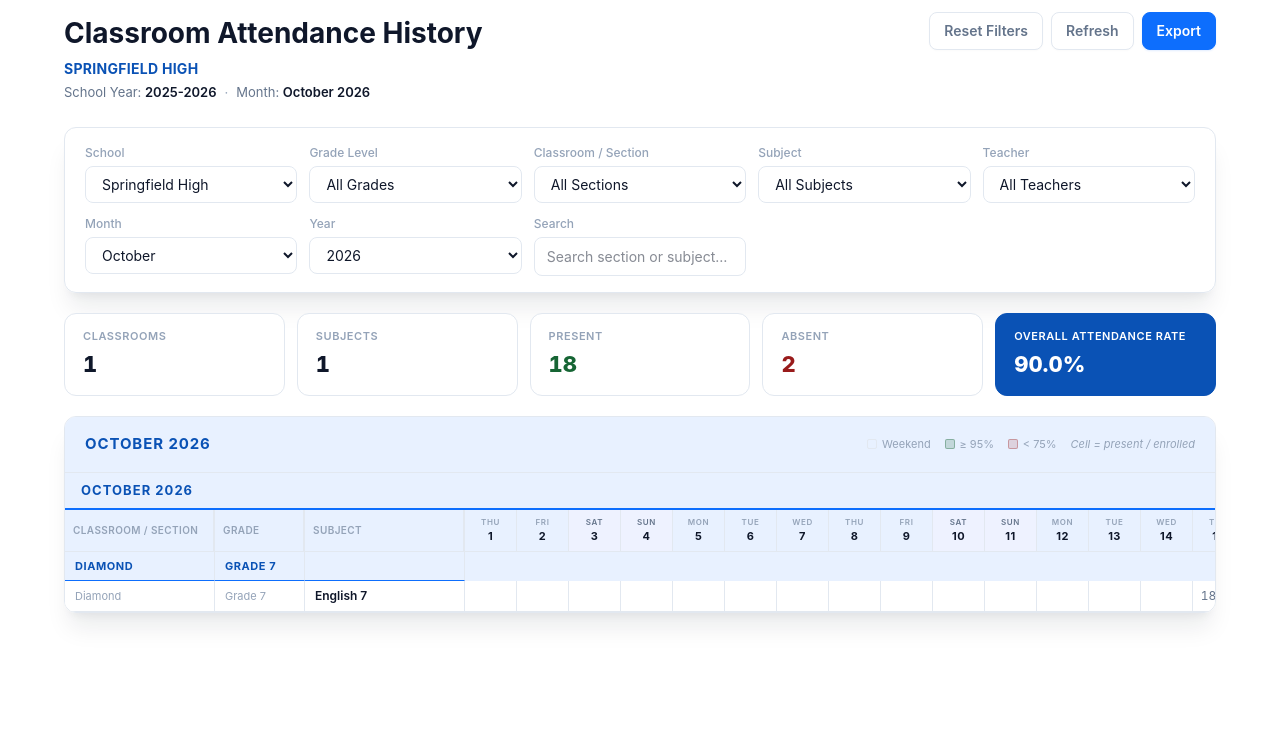
Scenario: AttendanceReport › applies grade, month and search filters
This screenshot has width=1280, height=732.
Select "Grade 7" in the dropdown below "Grade Level" at (416, 184), box [309,166,522,202]
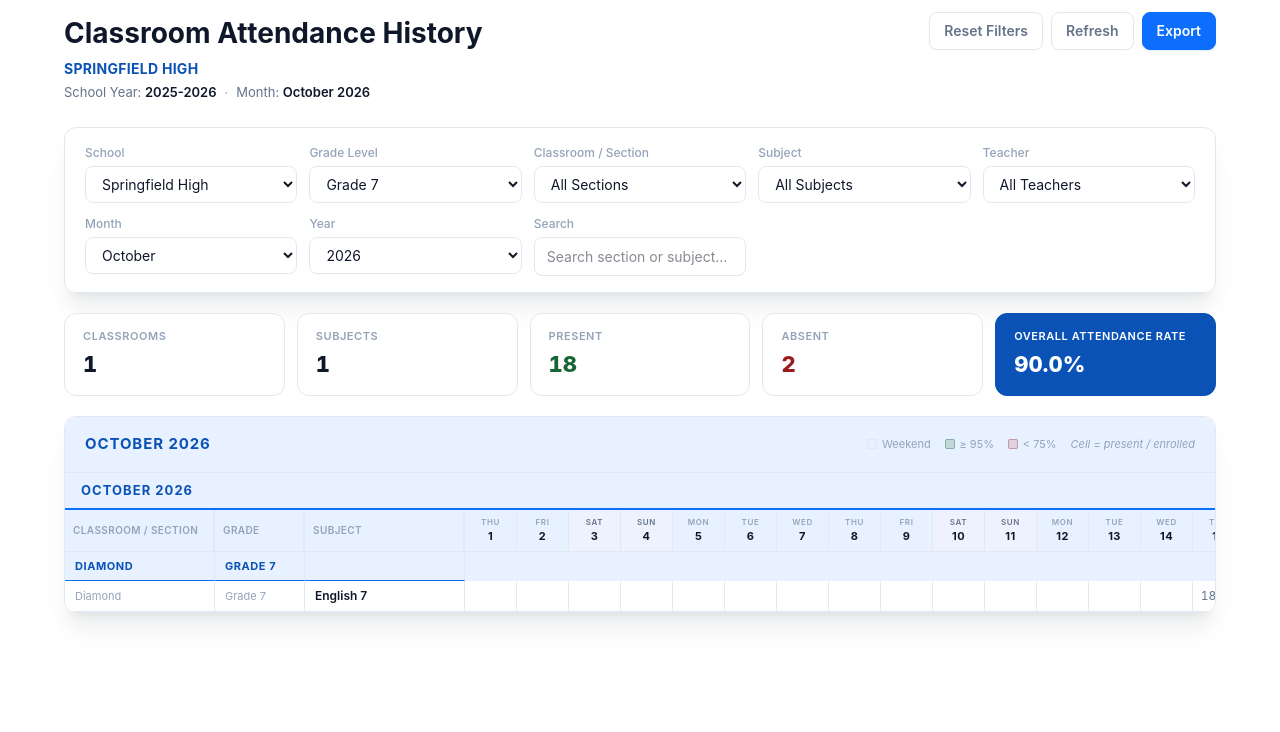
Select "November" in the 6th dropdown at (191, 255), box [85,236,297,274]
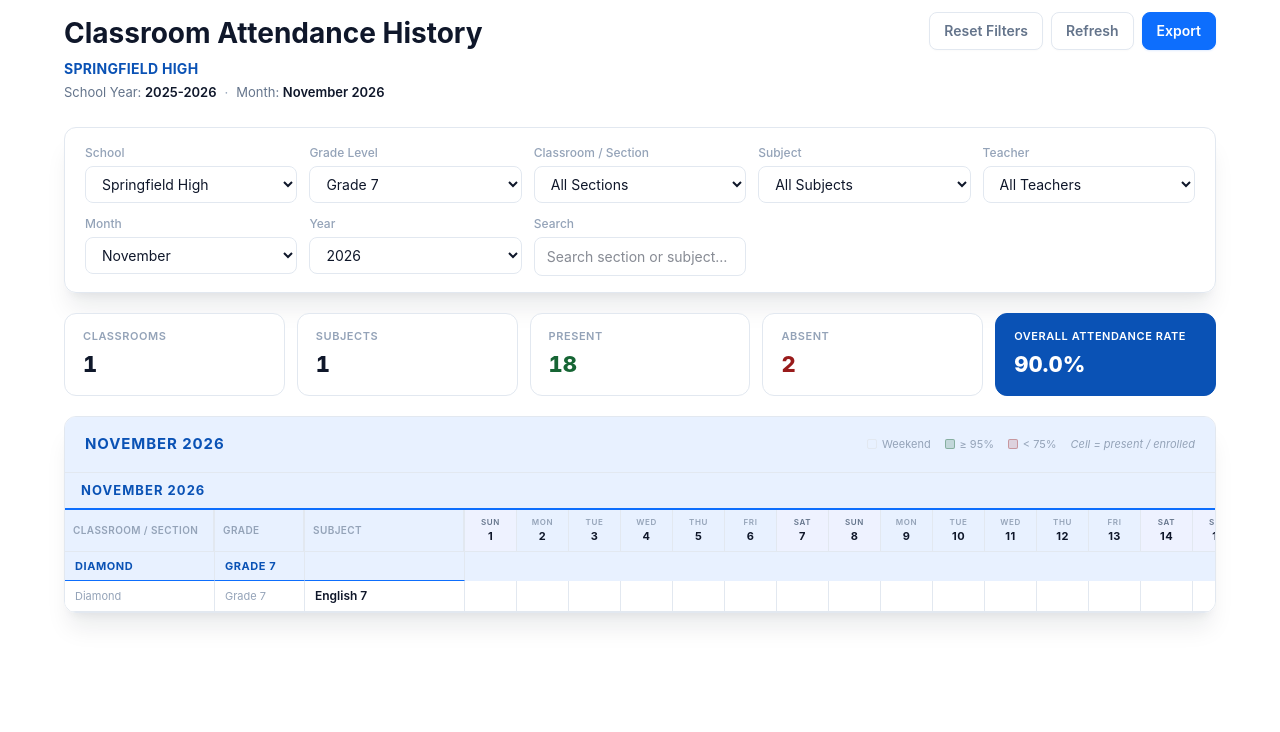
Type "Mathematics" into the field with placeholder "Search section or subject…" at (640, 256), box [534,236,746,276]
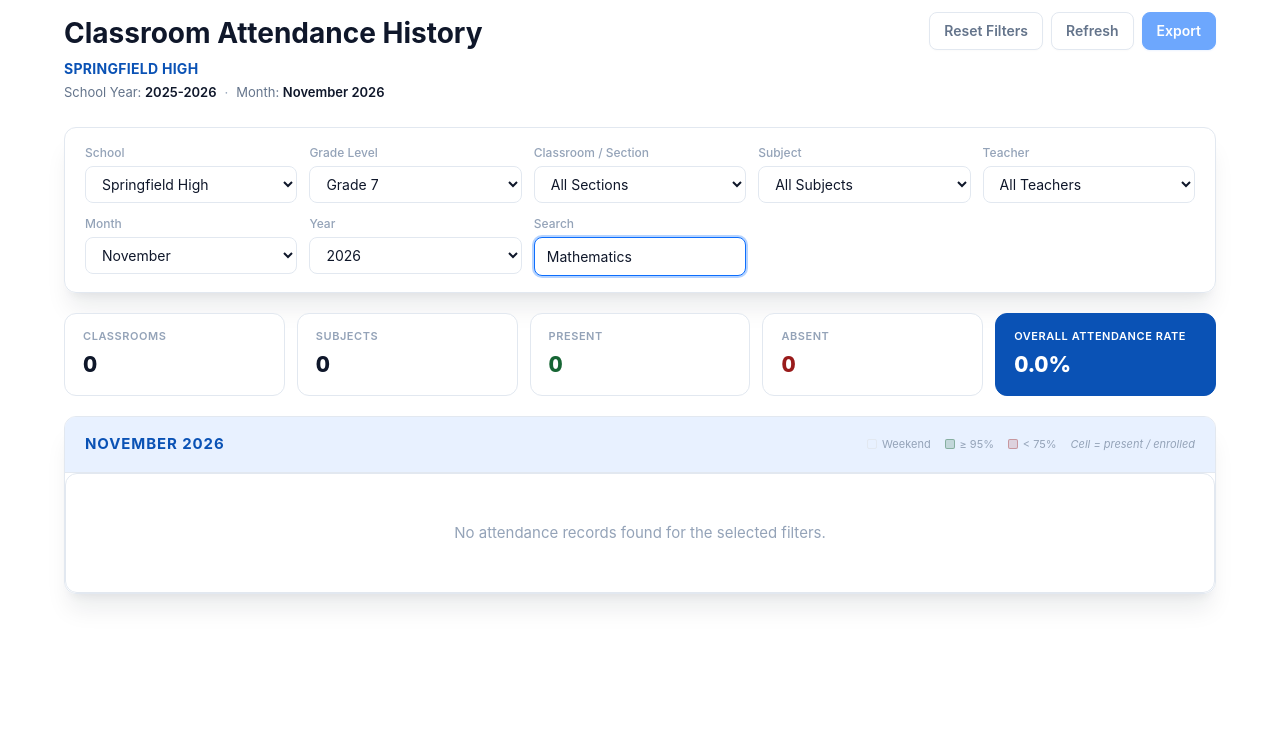
Check: the text "No attendance records found for the selected filters." is shown, box [65,472,1215,593]
